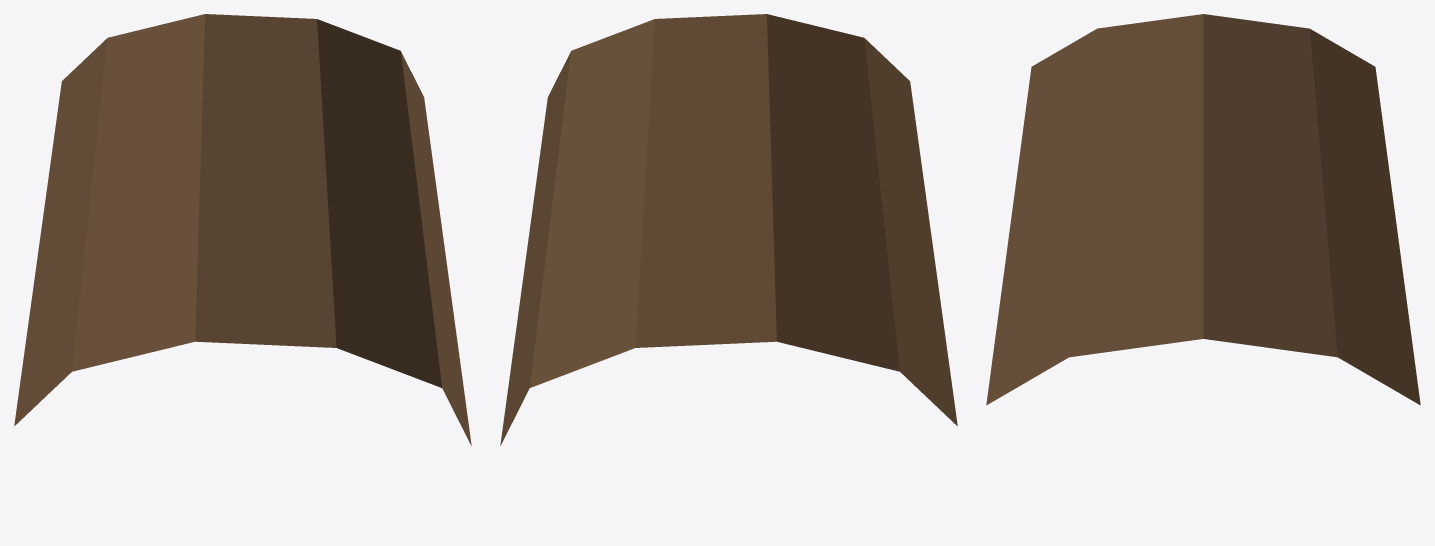
The model's file is tree-stump.glb.
The picture shows the model from 3 angles, left to right: view 1: azimuth 30°, elevation 25°; view 2: azimuth 150°, elevation 25°; view 3: azimuth 270°, elevation 25°; orthographic projection.
Parts seen in each view (by area): view 1: NesmenTreeStump; view 2: NesmenTreeStump; view 3: NesmenTreeStump.
Boxes of the visible parts, x1,y1,x2,y2 form: NesmenTreeStump: [14, 14, 471, 445]; NesmenTreeStump: [500, 14, 957, 445]; NesmenTreeStump: [986, 14, 1420, 405].
Bounding box in the file's own units: 0.96 × 0.8 × 0.913.
